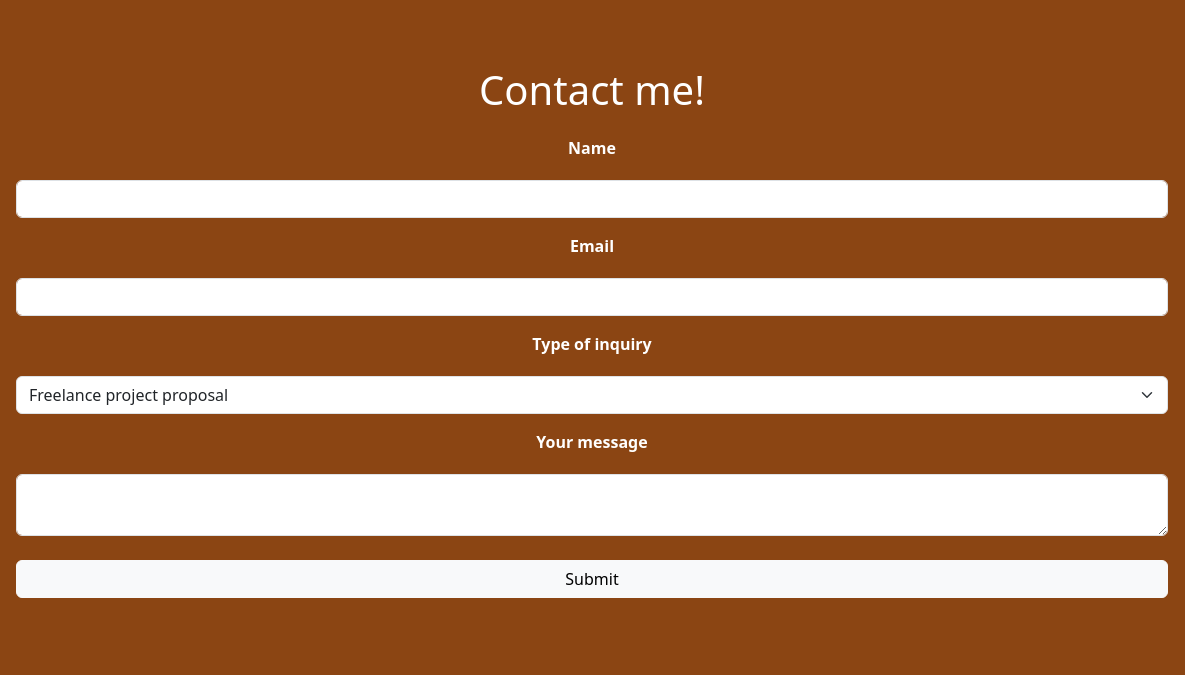
it: submit without values shows required messages for all fields
This screenshot has width=1185, height=675.
Click the button "Submit" at (592, 579), box [16, 560, 1168, 598]
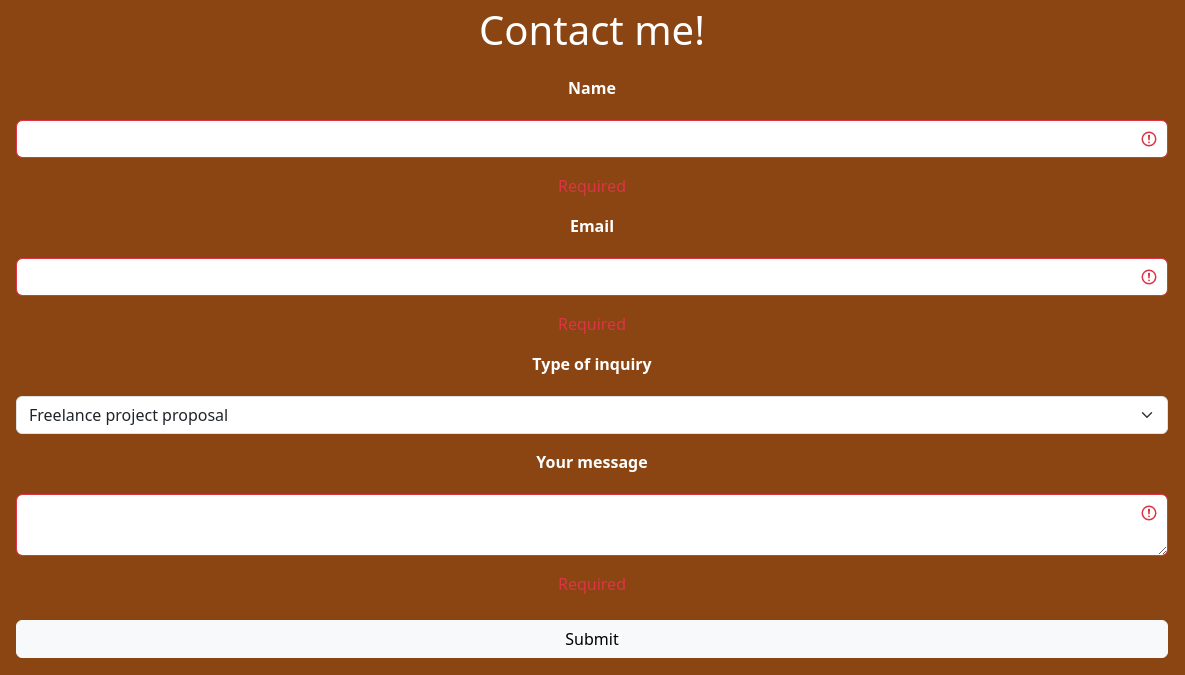
Expected: the text "Required" is shown 3 times, [558, 175, 626, 197]; [558, 313, 626, 335]; [558, 573, 626, 595]
